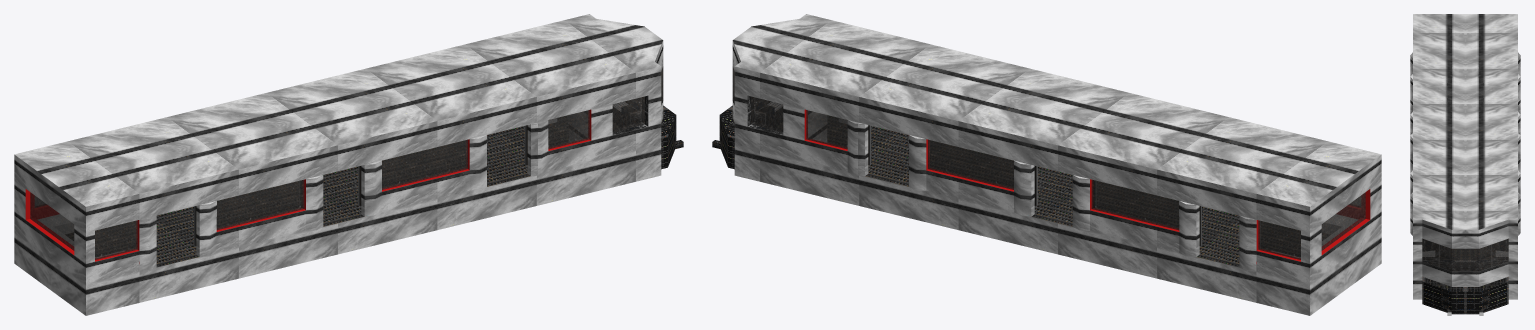
Rendered from metro.FBX.
The picture shows the model from 3 angles, left to right: view 1: azimuth 30°, elevation 25°; view 2: azimuth 150°, elevation 25°; view 3: azimuth 270°, elevation 25°; orthographic projection. The views are drawn at different scales.
Visible parts, largest first — view 1: metro_body; view 2: metro_body; view 3: metro_body.
Boxes of the visible parts, <box> form: metro_body: <box>14,14,683,315</box>; metro_body: <box>712,14,1381,315</box>; metro_body: <box>1410,14,1520,315</box>.
Bounding box in the file's own units: 5005 × 1051 × 840.
